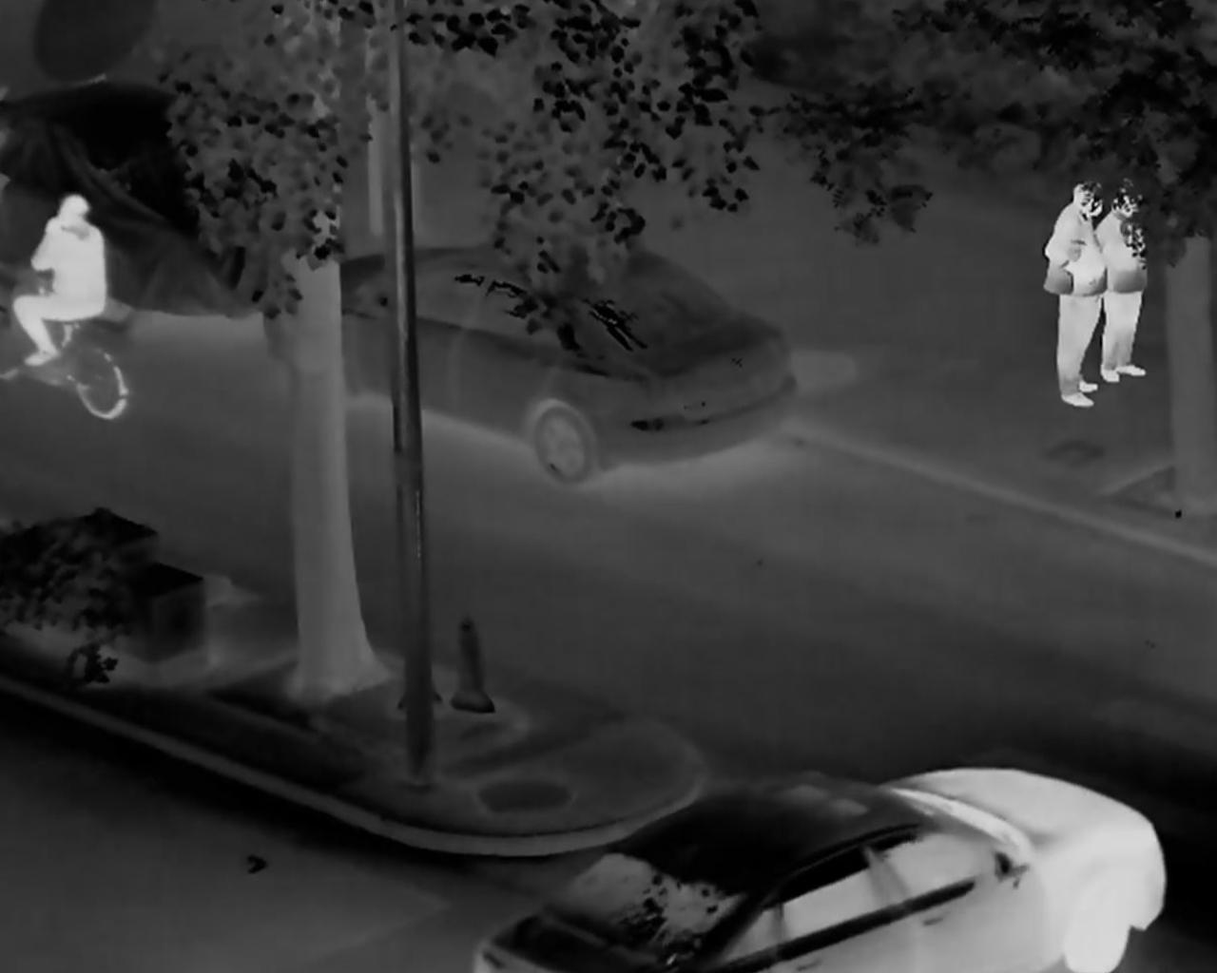person: (13, 193, 109, 367), (1045, 181, 1102, 409), (1091, 187, 1146, 384)
